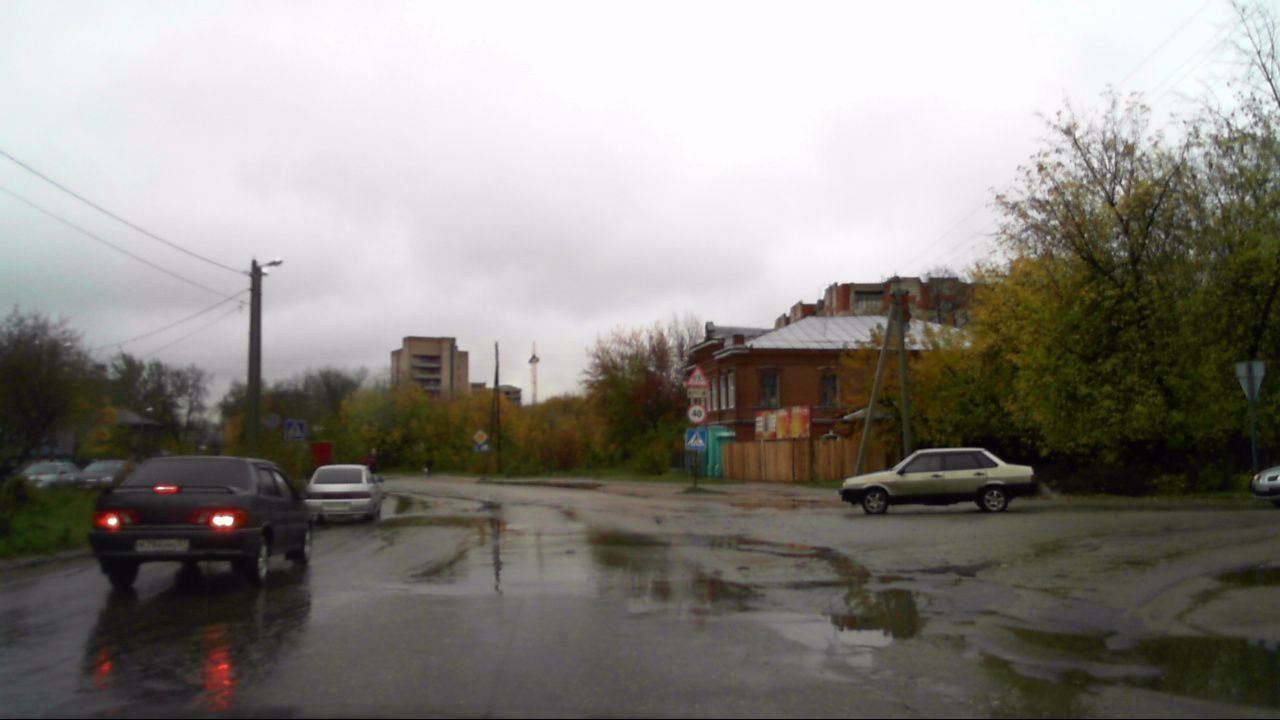speed_warning_40: (686, 405, 704, 422)
